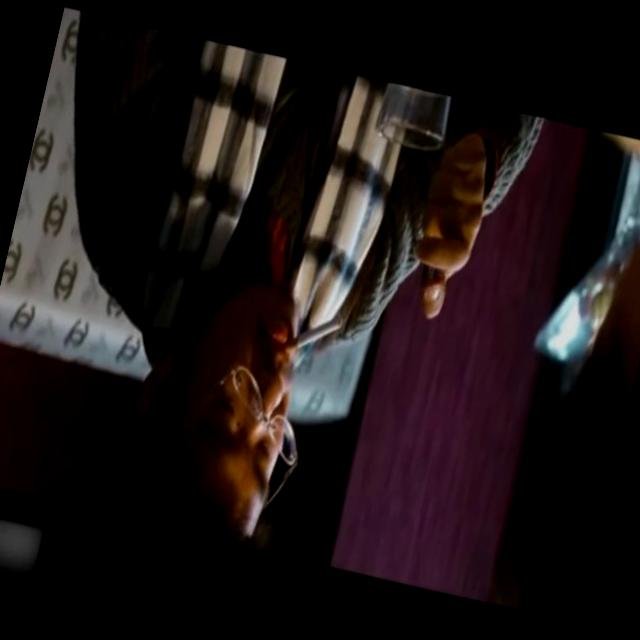cigarette: (271, 304, 346, 374)
